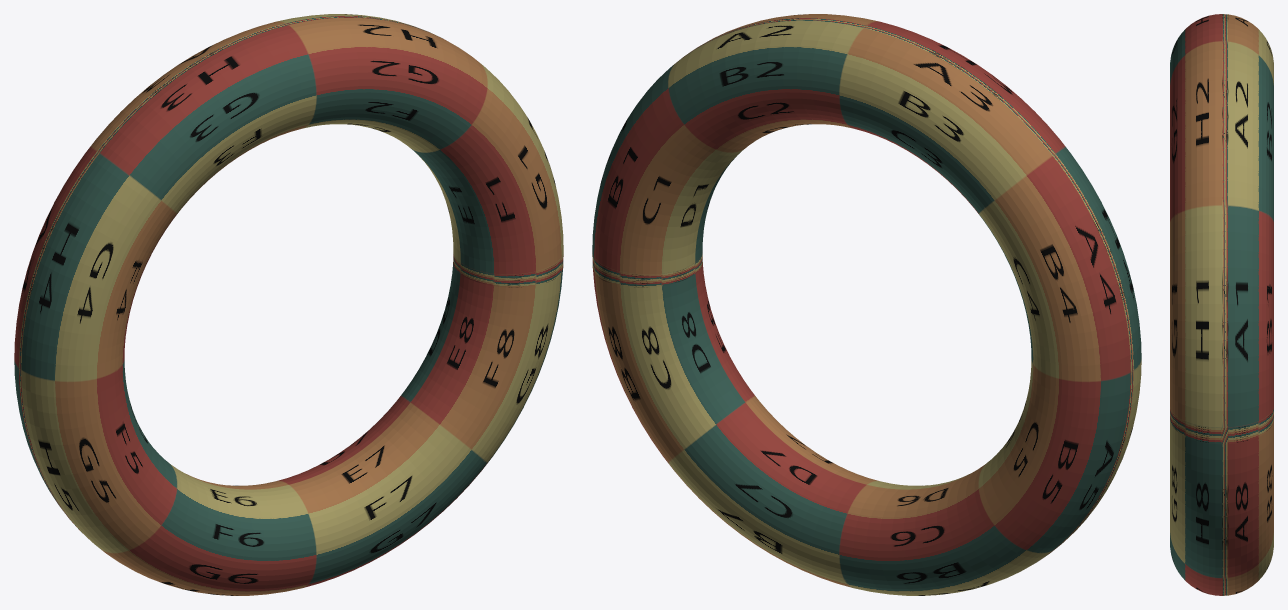
Rendered from texture_torus_R7_r4.glb.
The picture shows the model from 3 angles, left to right: view 1: azimuth 30°, elevation 25°; view 2: azimuth 150°, elevation 25°; view 3: azimuth 270°, elevation 25°; orthographic projection. The views are drawn at different scales.
Visible parts, largest first — view 1: world; view 2: world; view 3: world.
Boxes of the visible parts, x1,y1,x2,y2 form: world: (14, 14, 563, 595); world: (592, 14, 1141, 595); world: (1170, 14, 1273, 595).
Size of the model in its own units: 31.11 by 31.11 by 5.54.
Materials: 1 (1 with a texture image).
